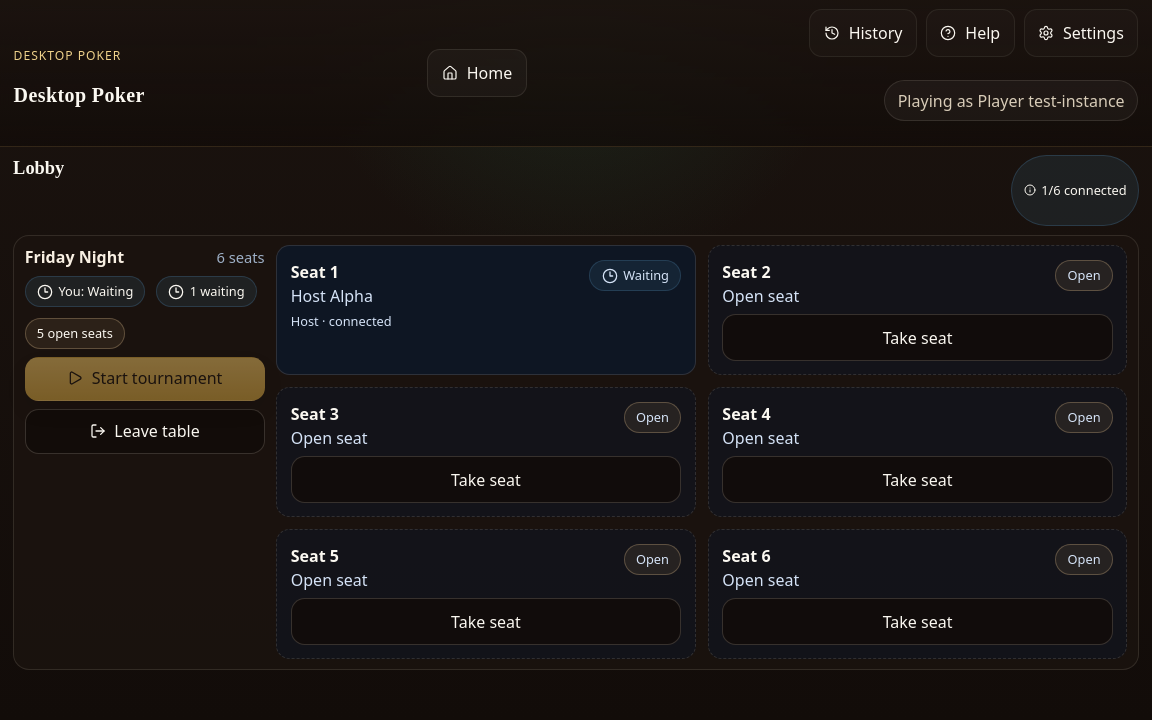
AppShell integration (client and routing) › leaves the live client session before returning home
The image size is (1152, 720).
Expected: the heading "Lobby" is shown, [13,158,64,178]
Expected: the 1st button "Take seat" is shown, [722,314,1113,361]
Click the button "Leave table".
click(145, 432)  # box [25,409,265,454]
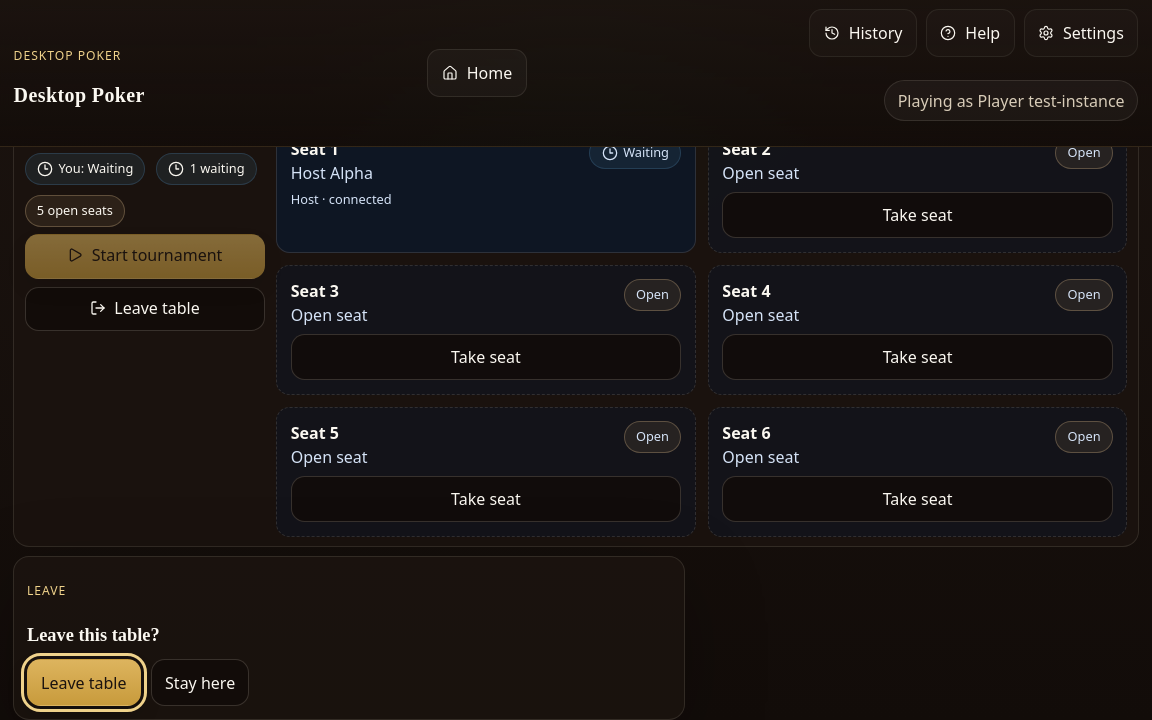
Click the button "Leave table" below "Leave this table?".
click(84, 683)  # box [27,659,141,706]
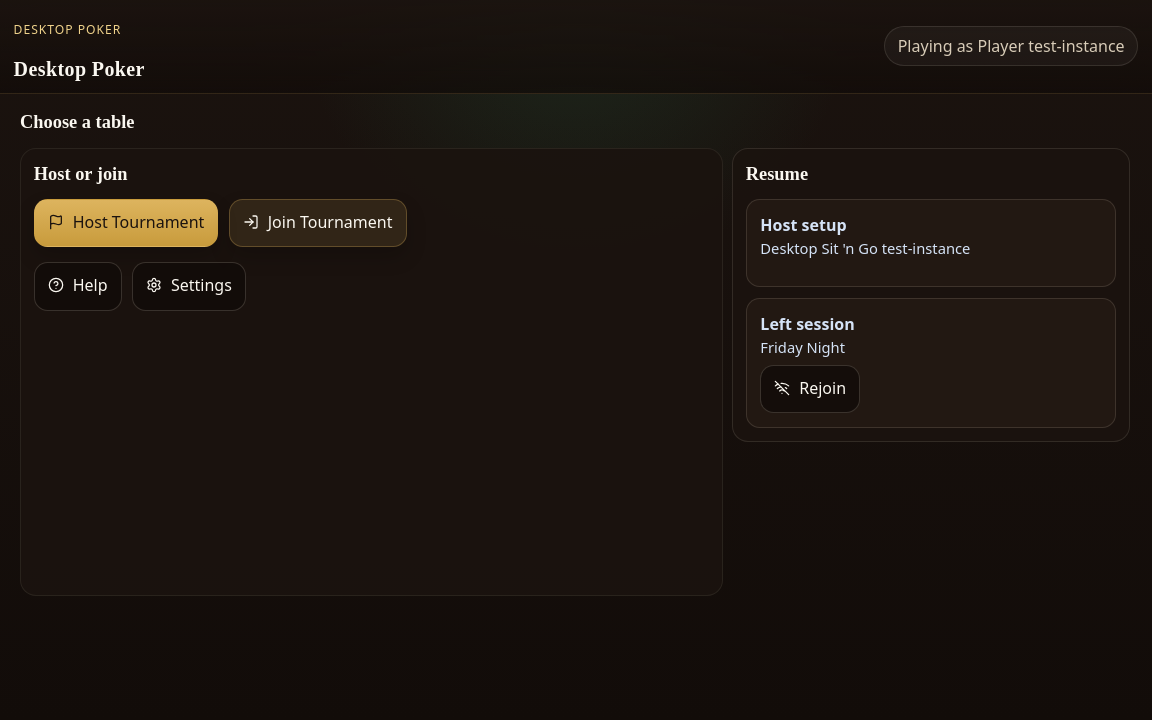
Expected: the heading "Choose a table" is shown, [20,109,134,136]
